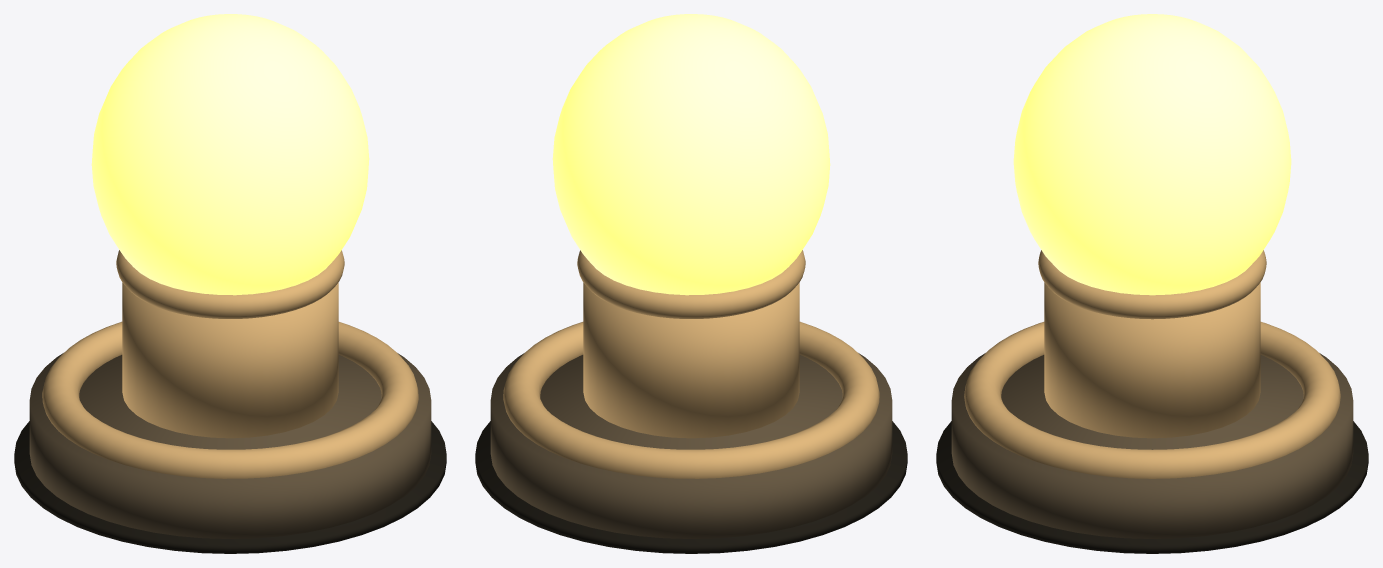
File: light.glb
The picture shows the model from 3 angles, left to right: view 1: azimuth 30°, elevation 25°; view 2: azimuth 150°, elevation 25°; view 3: azimuth 270°, elevation 25°; orthographic projection.
Parts seen in each view (by area): view 1: Light_Orb, Light_Base, Light_Pedestal, Light_Base_Ring, Light_Shadow, Light_Orb_Cradle; view 2: Light_Orb, Light_Base, Light_Pedestal, Light_Base_Ring, Light_Shadow, Light_Orb_Cradle; view 3: Light_Orb, Light_Base, Light_Pedestal, Light_Base_Ring, Light_Shadow, Light_Orb_Cradle.
Boxes of the visible parts, x1,y1,x2,y2 form: Light_Orb: (91, 14, 369, 295); Light_Base: (29, 353, 431, 538); Light_Pedestal: (122, 282, 338, 438); Light_Base_Ring: (42, 321, 418, 478); Light_Shadow: (14, 421, 446, 553); Light_Orb_Cradle: (116, 250, 344, 318); Light_Orb: (552, 14, 830, 295); Light_Base: (490, 353, 892, 538); Light_Pedestal: (583, 282, 799, 438); Light_Base_Ring: (503, 321, 879, 478); Light_Shadow: (475, 421, 907, 553); Light_Orb_Cradle: (577, 250, 805, 318); Light_Orb: (1013, 14, 1291, 295); Light_Base: (951, 353, 1353, 538); Light_Pedestal: (1044, 282, 1260, 438); Light_Base_Ring: (964, 322, 1340, 478); Light_Shadow: (936, 421, 1368, 553); Light_Orb_Cradle: (1038, 250, 1266, 319).
Bounding box in the file's own units: 0.56 × 0.6244 × 0.56.
